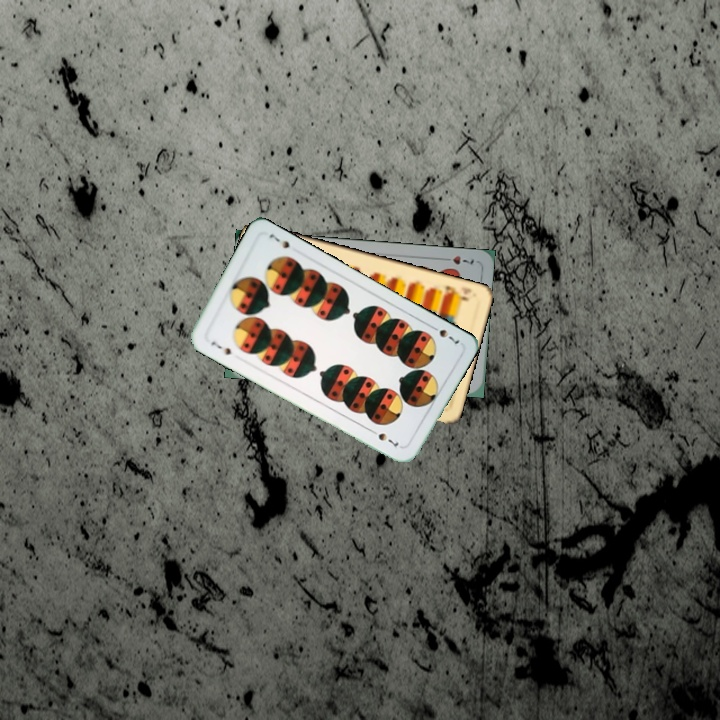E10: (440, 282, 472, 303)
H7: (437, 252, 476, 267)
S7: (426, 321, 462, 346), (207, 337, 234, 357)
